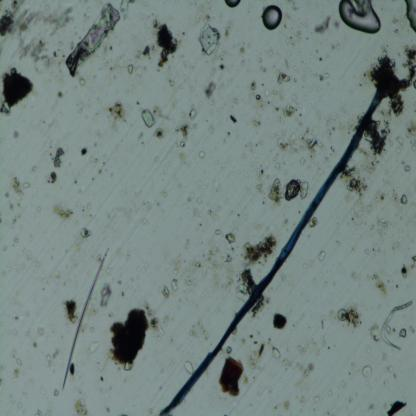Air bubble: (337, 0, 383, 36), (260, 3, 283, 34), (401, 1, 416, 32), (225, 1, 242, 12)
Background material: (65, 0, 130, 78), (108, 303, 158, 372), (371, 41, 416, 112), (343, 191, 393, 254), (273, 124, 326, 167), (180, 250, 237, 288), (0, 67, 35, 118), (13, 36, 64, 69), (15, 4, 73, 33), (149, 17, 180, 70), (219, 351, 247, 397), (367, 121, 393, 170), (241, 232, 277, 267), (0, 0, 34, 36), (265, 176, 311, 202), (242, 79, 272, 118), (280, 1, 302, 51), (175, 108, 200, 148), (140, 102, 164, 139), (395, 118, 416, 157), (198, 21, 220, 57), (233, 266, 256, 300), (342, 170, 368, 198), (85, 154, 109, 182), (336, 302, 362, 327), (188, 320, 213, 345), (245, 343, 268, 370), (254, 162, 272, 195), (10, 174, 30, 202), (184, 186, 203, 215), (106, 100, 128, 125), (291, 379, 312, 403), (215, 50, 235, 74), (136, 197, 153, 224), (62, 298, 79, 324), (241, 137, 262, 158), (390, 188, 408, 212), (371, 274, 389, 298), (312, 16, 333, 36), (278, 103, 300, 122), (382, 356, 401, 378), (53, 201, 75, 220), (294, 360, 316, 378), (274, 70, 297, 87), (401, 254, 416, 280), (51, 144, 66, 170), (251, 294, 265, 321), (386, 398, 409, 414), (162, 278, 178, 300), (9, 351, 23, 376), (44, 346, 60, 367), (100, 281, 112, 309), (271, 312, 288, 330), (74, 398, 89, 416), (316, 70, 332, 86), (139, 44, 154, 61), (204, 79, 217, 98), (79, 224, 94, 240), (360, 362, 372, 381), (33, 322, 45, 341), (370, 324, 381, 344), (49, 381, 61, 399), (224, 230, 238, 245), (348, 266, 359, 284), (226, 18, 235, 40), (279, 396, 290, 414), (208, 204, 219, 222), (45, 170, 59, 184), (8, 127, 22, 140), (88, 341, 101, 355), (258, 52, 268, 70), (183, 358, 193, 376), (156, 320, 167, 336), (236, 42, 246, 59), (177, 151, 187, 168), (229, 94, 241, 108), (166, 76, 178, 90), (397, 326, 409, 340), (328, 42, 343, 53), (270, 346, 282, 359), (298, 346, 312, 357), (309, 214, 318, 231), (31, 257, 43, 269), (74, 74, 86, 86), (68, 362, 76, 379), (318, 317, 327, 332), (249, 119, 264, 128), (316, 250, 326, 263), (347, 392, 355, 408), (55, 86, 65, 98), (126, 62, 134, 77), (266, 46, 275, 59), (286, 357, 294, 371), (215, 224, 223, 238), (402, 162, 412, 173), (197, 148, 205, 160), (228, 114, 237, 124), (210, 122, 216, 136), (80, 147, 89, 156), (162, 186, 168, 199), (32, 162, 38, 174), (314, 393, 320, 404), (30, 342, 38, 350), (118, 278, 124, 286), (119, 290, 125, 297), (15, 238, 20, 246), (318, 54, 322, 62)
Cellulose filter fibre: (381, 299, 415, 351)
Cotton: (156, 86, 385, 414)
